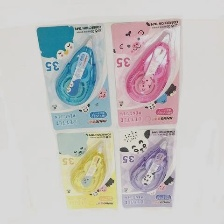correction_fluid: (51, 31, 104, 111), (123, 28, 176, 107), (66, 137, 112, 198), (125, 135, 171, 195)
